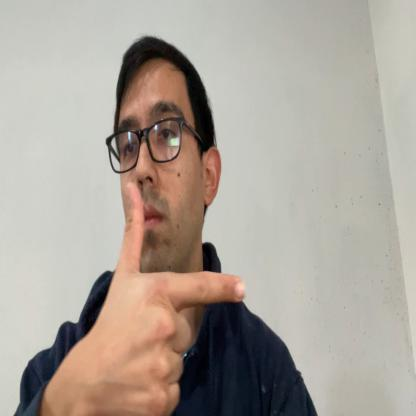G: (88, 180, 246, 416)
